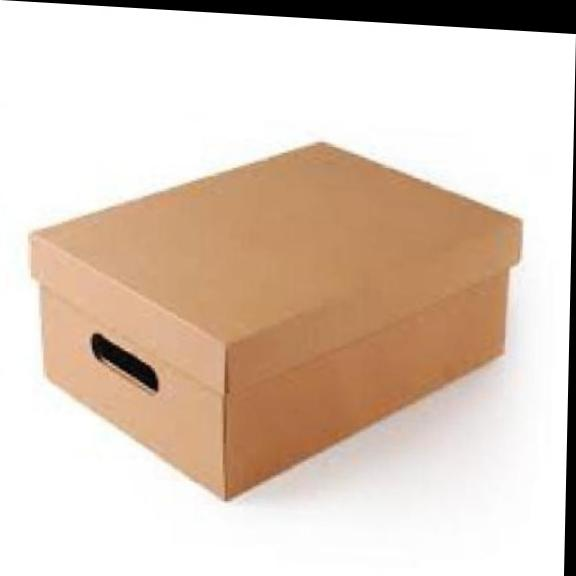Kertas: (31, 144, 521, 498)
